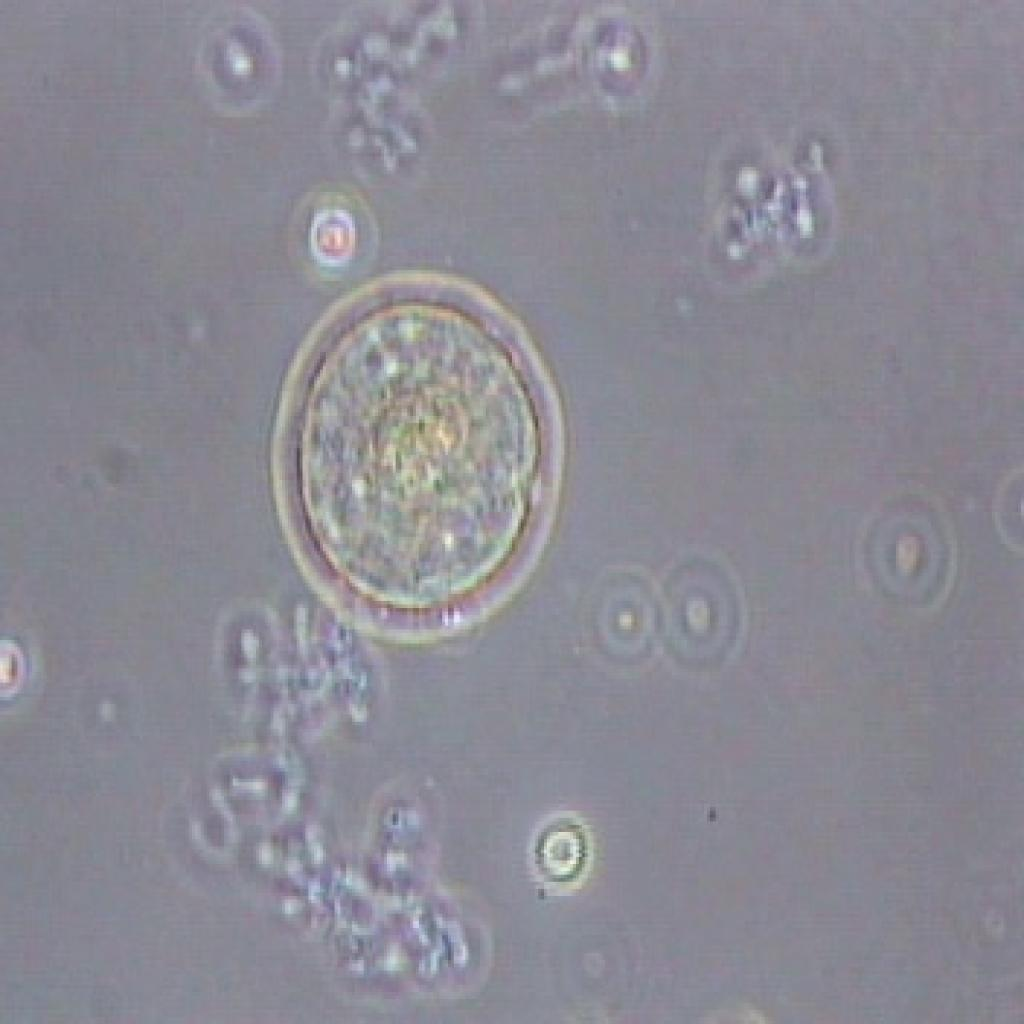Arcella: (265, 252, 576, 662)
